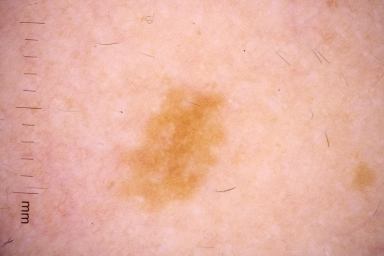melanoma: (122, 89, 227, 209)
